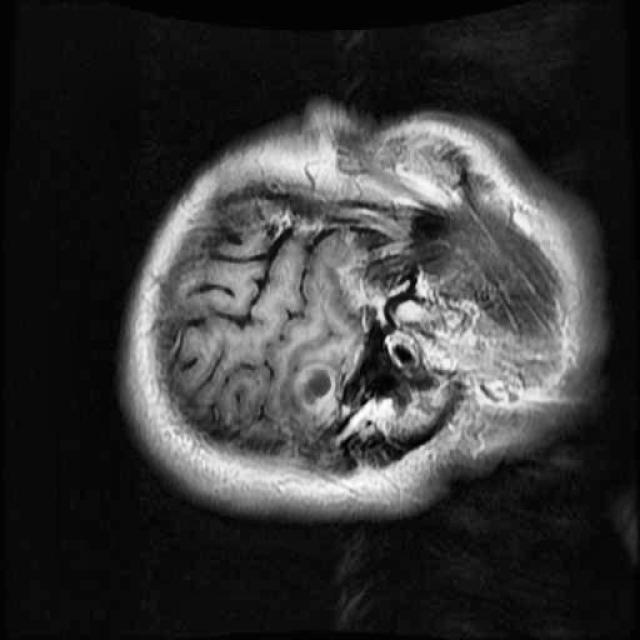Tumor: (280, 356, 350, 424)
